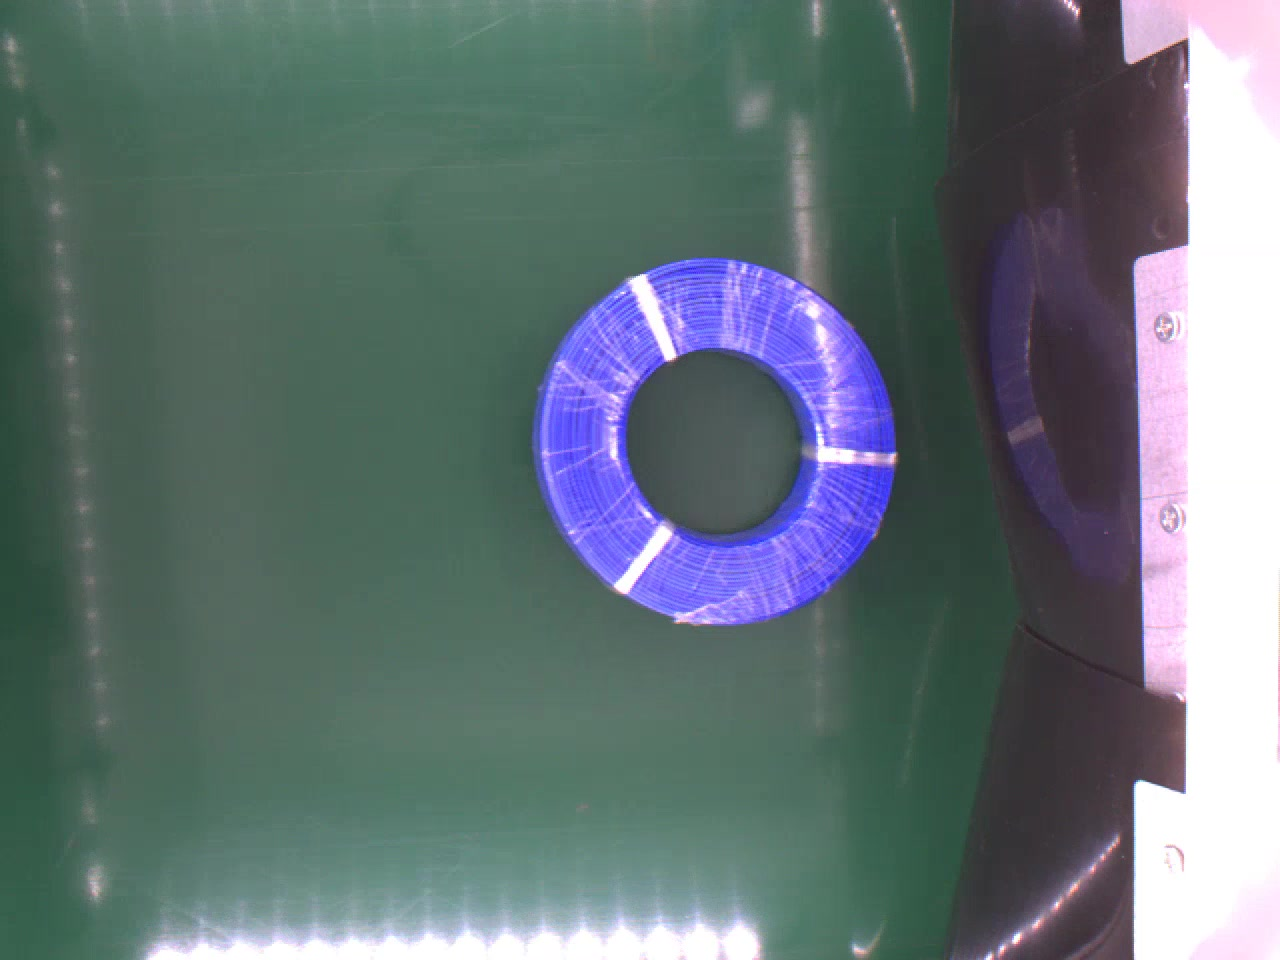blue: (535, 259, 897, 627)
